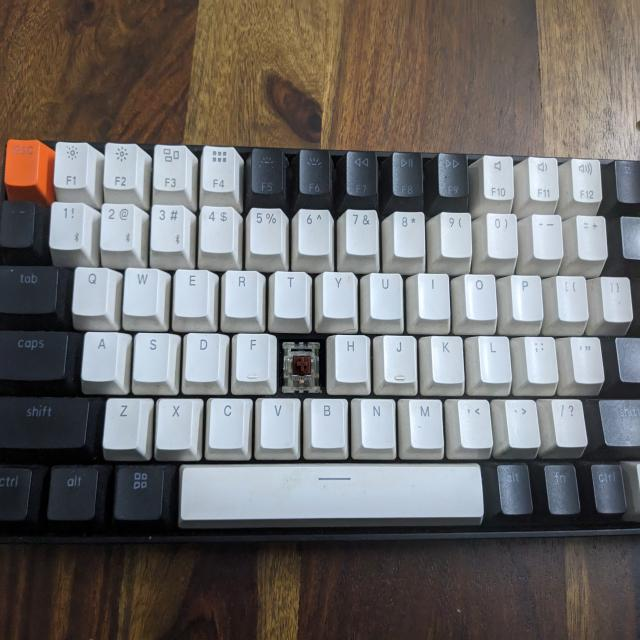C: (279, 339, 325, 387)
